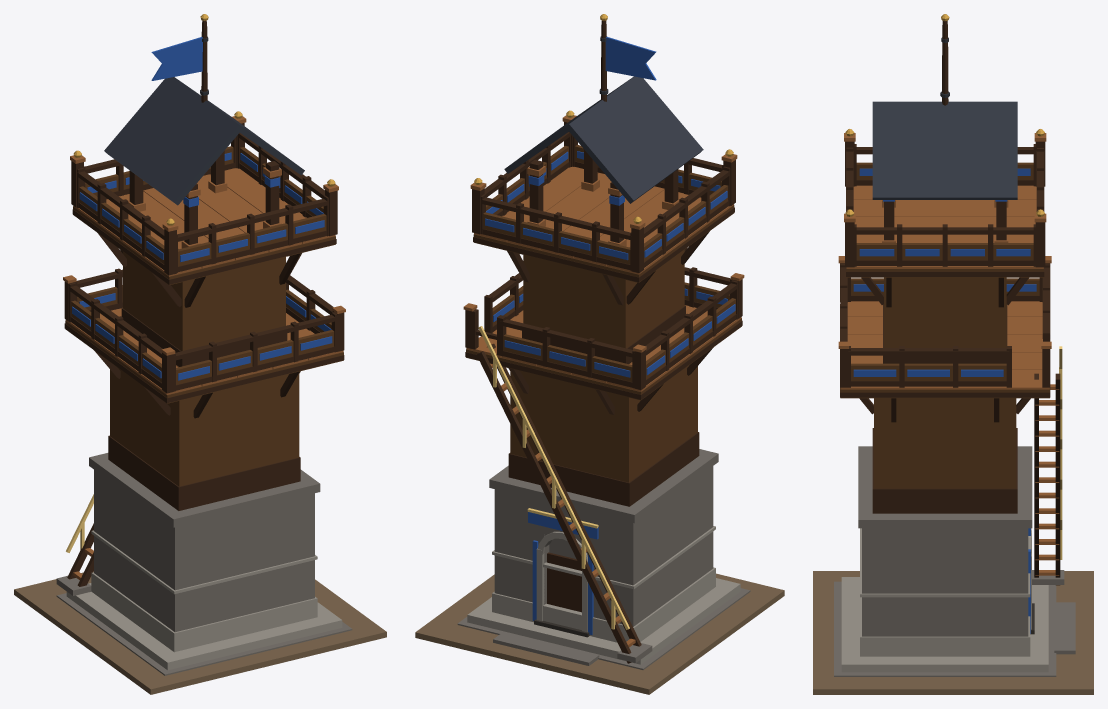
3 renders of one model, left to right at view 1: azimuth 30°, elevation 25°; view 2: azimuth 150°, elevation 25°; view 3: azimuth 270°, elevation 25°, orthographic. The views are drawn at different scales.
Parts seen in each view (by area): view 1: WT-主体, WT-team; view 2: WT-主体, WT-team, WT-team_trim; view 3: WT-主体, WT-team, WT-team_trim.
Boxes of the visible parts, x1,y1,x2,y2 form: WT-主体: (14,14,386,694); WT-team: (72,37,332,380); WT-主体: (415,14,784,694); WT-team: (485,37,735,634); WT-team_trim: (478,326,629,629); WT-主体: (813,14,1093,694); WT-team: (853,168,1036,633); WT-team_trim: (1059,346,1062,559).
Size of the model in its own units: 7.08 by 17.34 by 7.1.
3 materials, 1 textured.
